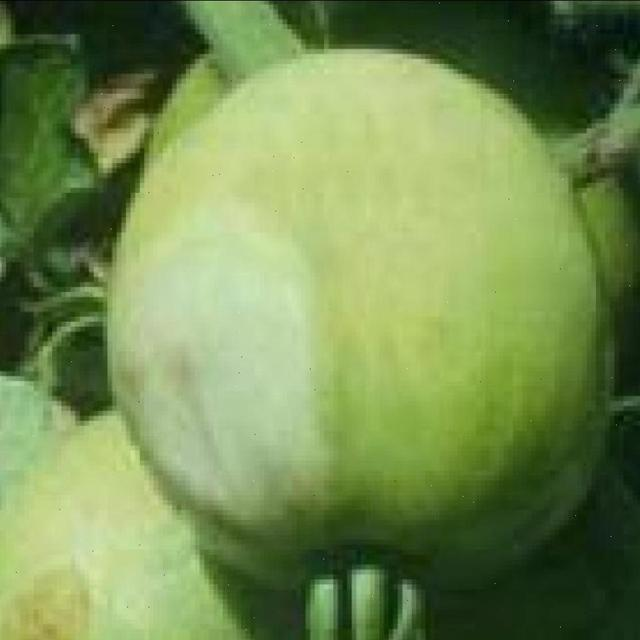Sunscald Fruit: (70, 115, 233, 366)
